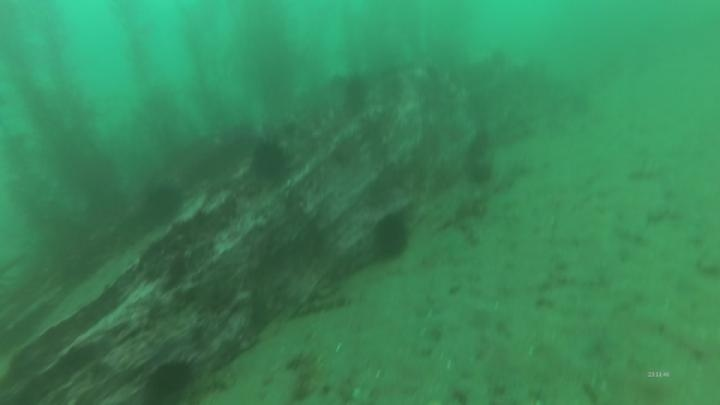echinus: (144, 356, 199, 402), (369, 210, 413, 264), (247, 138, 293, 185), (140, 181, 187, 226), (340, 73, 366, 93), (347, 98, 367, 119)
